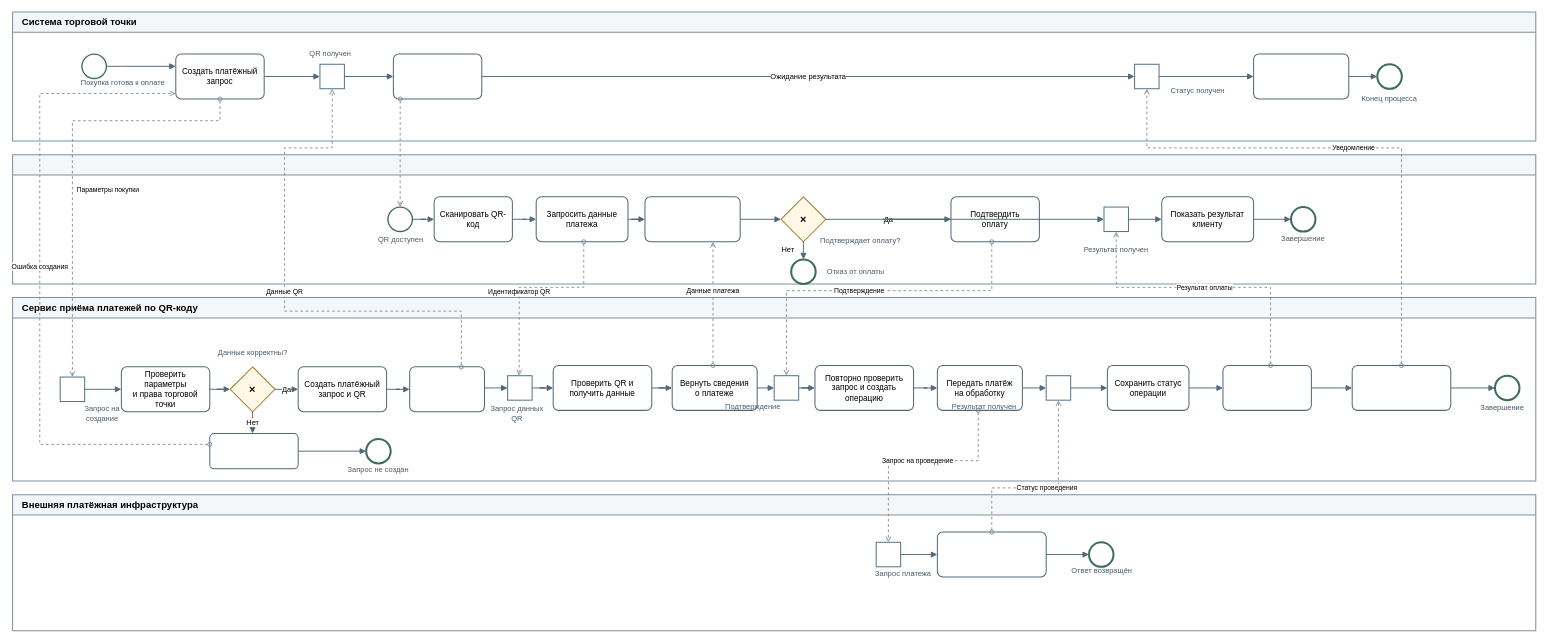
The diagram is 1548 pixels wide and 643 high, and some of its shapes have lost their labels. Here are the shapes that lost their labels. From the top down, the box of each, then its label:
(393, 53, 482, 99): Показать QR-код покупателю
(1253, 53, 1349, 99): Обновить состояние заказа
(644, 196, 740, 242): Проверить получателя, сумму и валюту
(12, 154, 1536, 284): Клиентское приложение
(409, 366, 485, 412): Передать QR торговой точке
(1222, 365, 1312, 411): Вернуть результат клиенту
(1351, 365, 1451, 411): Уведомить торговую точку
(209, 433, 298, 469): Вернуть ошибку
(937, 531, 1046, 577): Обработать платёж и сформировать результат
